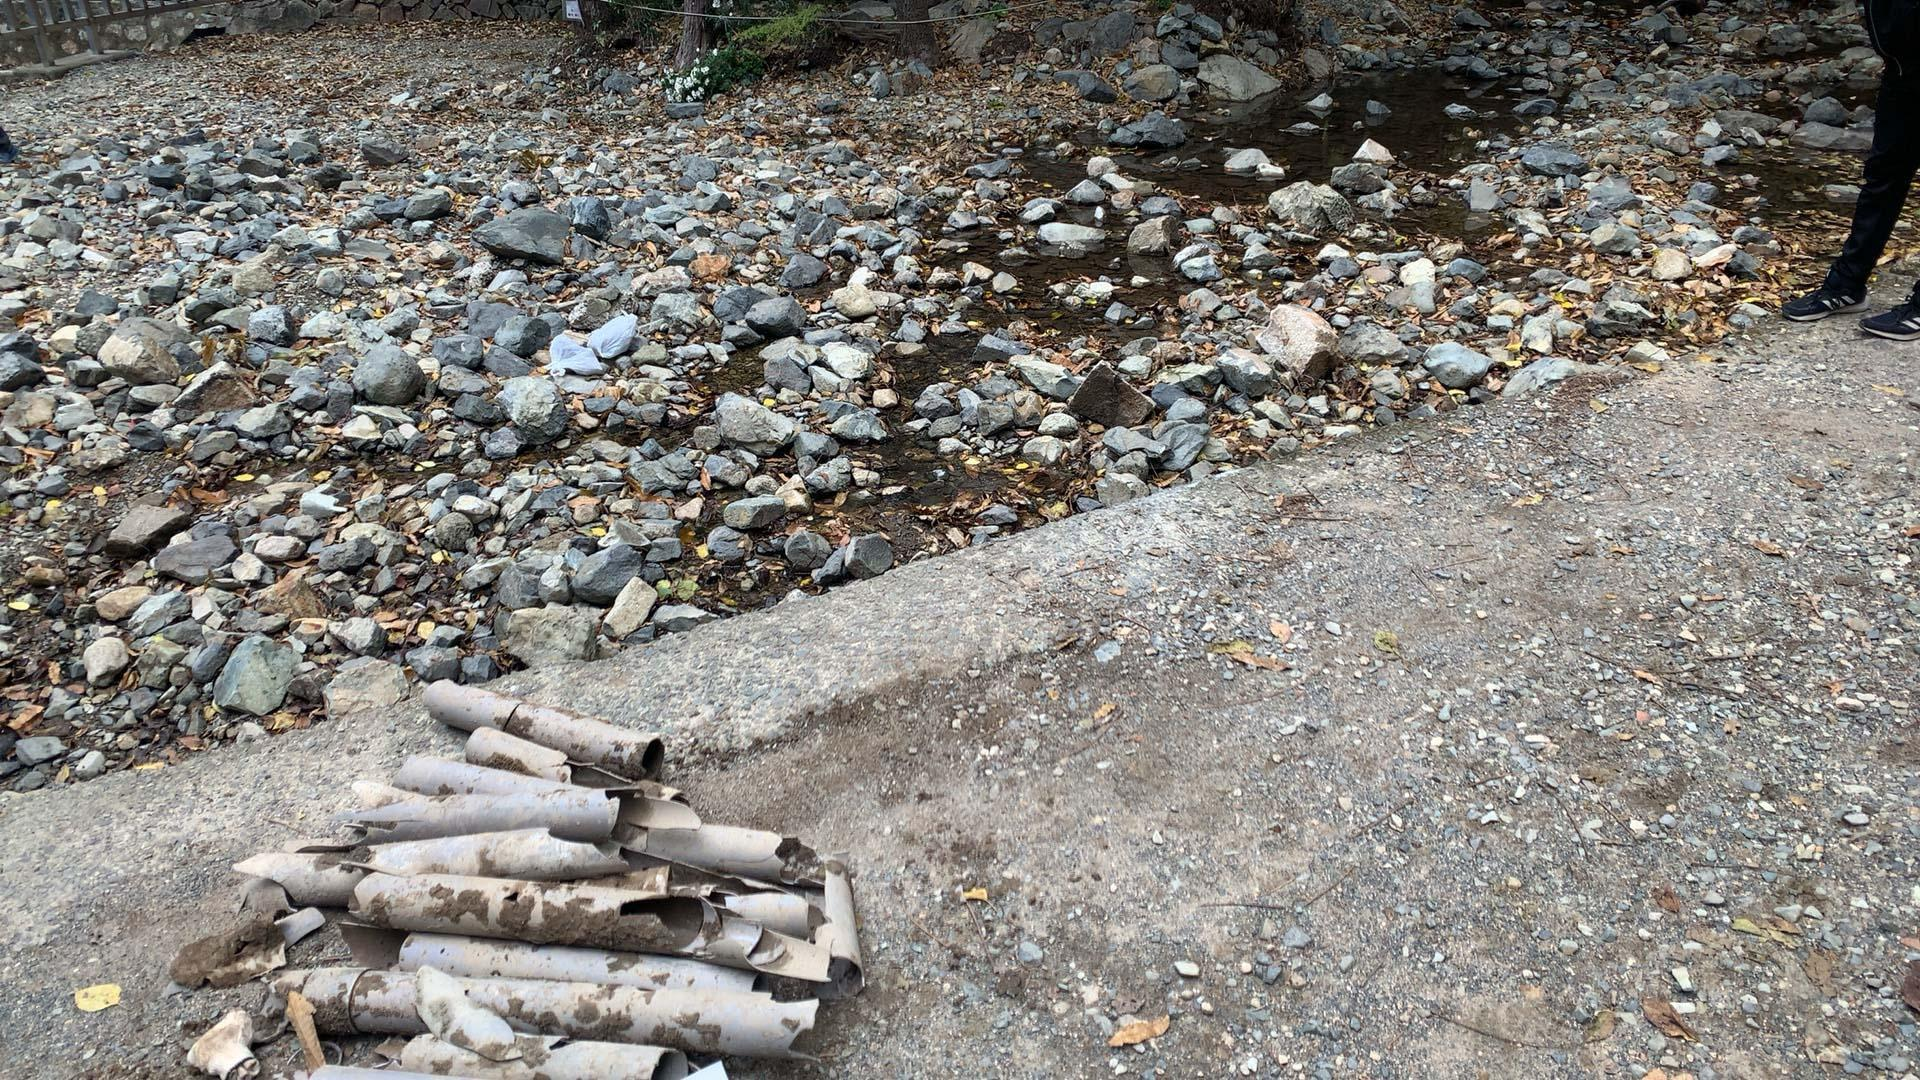white_bag: (535, 334, 605, 378), (585, 311, 640, 360)
